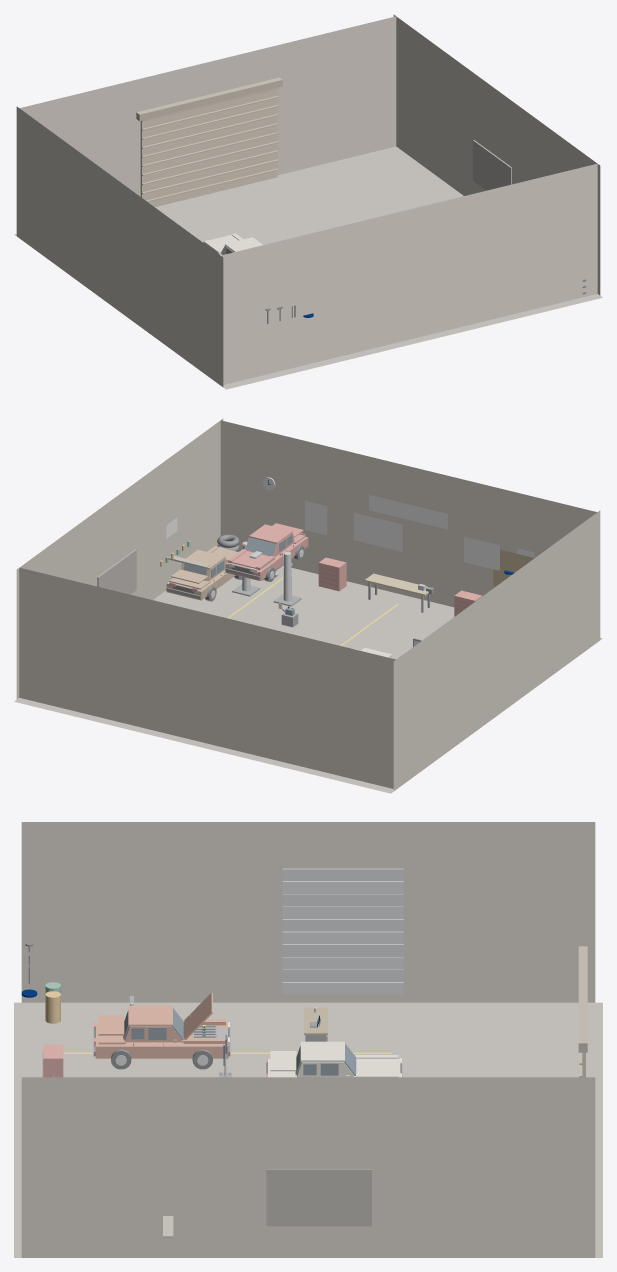
The picture shows the model from 3 angles, top to bottom: view 1: azimuth 30°, elevation 25°; view 2: azimuth 150°, elevation 25°; view 3: azimuth 270°, elevation 25°; orthographic projection. The views are drawn at different scales.
Size of the model in its own units: 21.6 by 6.61 by 19.5.
